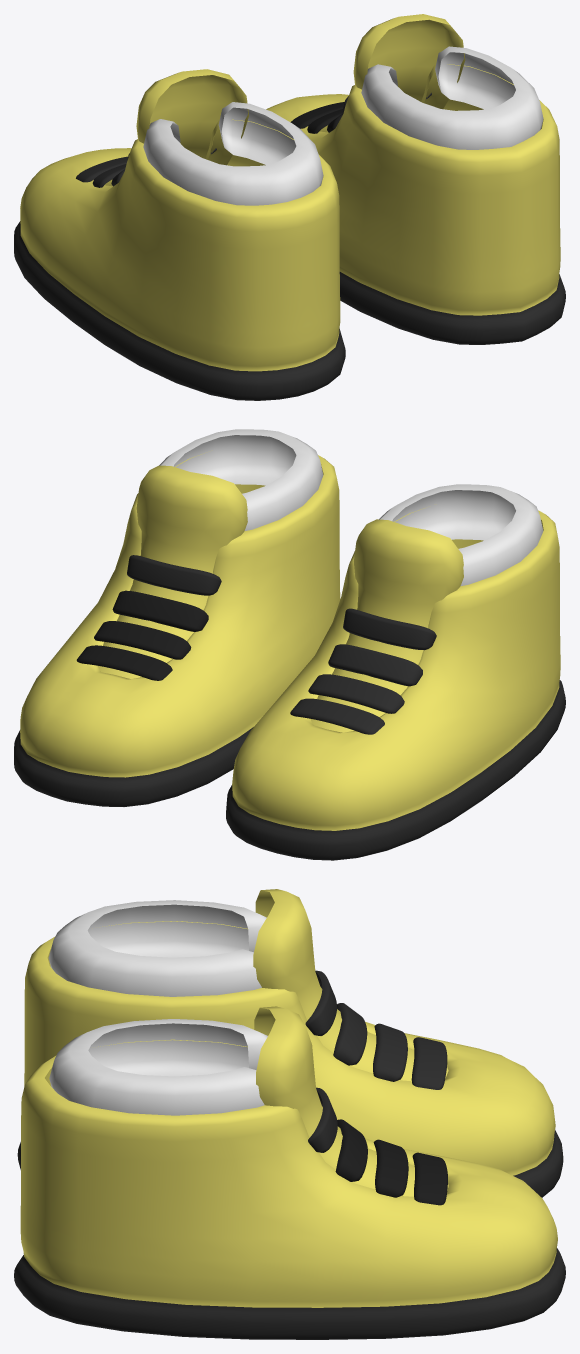
File: shoes_model_1.gltf
3 renders of one model, top to bottom at view 1: azimuth 30°, elevation 25°; view 2: azimuth 150°, elevation 25°; view 3: azimuth 270°, elevation 25°, orthographic. The views are drawn at different scales.
Visible parts, largest first — view 1: shoes, Shoe.001, Cube.002, Cube.003, Cube.004, Cube.001, NurbsPath.001, NurbsPath.007; view 2: shoes, Shoe.001, Cube.001, Cube.004, Cube.003, Cube.002, NurbsPath.003, NurbsPath.005, NurbsPath.008, NurbsPath.004, NurbsPath.002, NurbsPath.006 (+2 smaller); view 3: Shoe.001, shoes, Cube.002, Cube.003, Cube.004, Cube.001, NurbsPath.006, NurbsPath.002, NurbsPath.007, NurbsPath.001, NurbsPath.005, NurbsPath.003 (+2 smaller).
Part boxes in pixels (x1,y1,x2,y2): shoes: (14,119,345,400); Shoe.001: (266,64,565,344); Cube.002: (361,46,543,149); Cube.003: (143,102,323,205); Cube.004: (104,69,249,186); Cube.001: (319,14,465,132); NurbsPath.001: (290,102,344,128); NurbsPath.007: (76,156,127,182); shoes: (226,508,565,860); Shoe.001: (14,453,340,806); Cube.001: (98,465,247,678); Cube.004: (311,519,463,732); Cube.003: (379,484,543,585); Cube.002: (159,429,323,530); NurbsPath.003: (112,590,208,631); NurbsPath.005: (328,644,422,686); NurbsPath.008: (127,555,221,595); NurbsPath.004: (343,608,436,650); NurbsPath.002: (94,621,191,659); NurbsPath.006: (308,674,404,713); Shoe.001: (14,1039,565,1339); shoes: (17,921,563,1197); Cube.002: (49,1019,267,1115); Cube.003: (48,900,266,996); Cube.004: (253,889,448,1081); Cube.001: (254,1006,448,1196); NurbsPath.006: (373,1023,407,1081); NurbsPath.002: (373,1139,408,1197); NurbsPath.007: (411,1037,447,1089); NurbsPath.001: (412,1152,447,1205); NurbsPath.005: (333,1003,367,1065); NurbsPath.003: (335,1119,367,1181).
Size of the model in its own units: 0.4497 by 0.2489 by 0.457.
